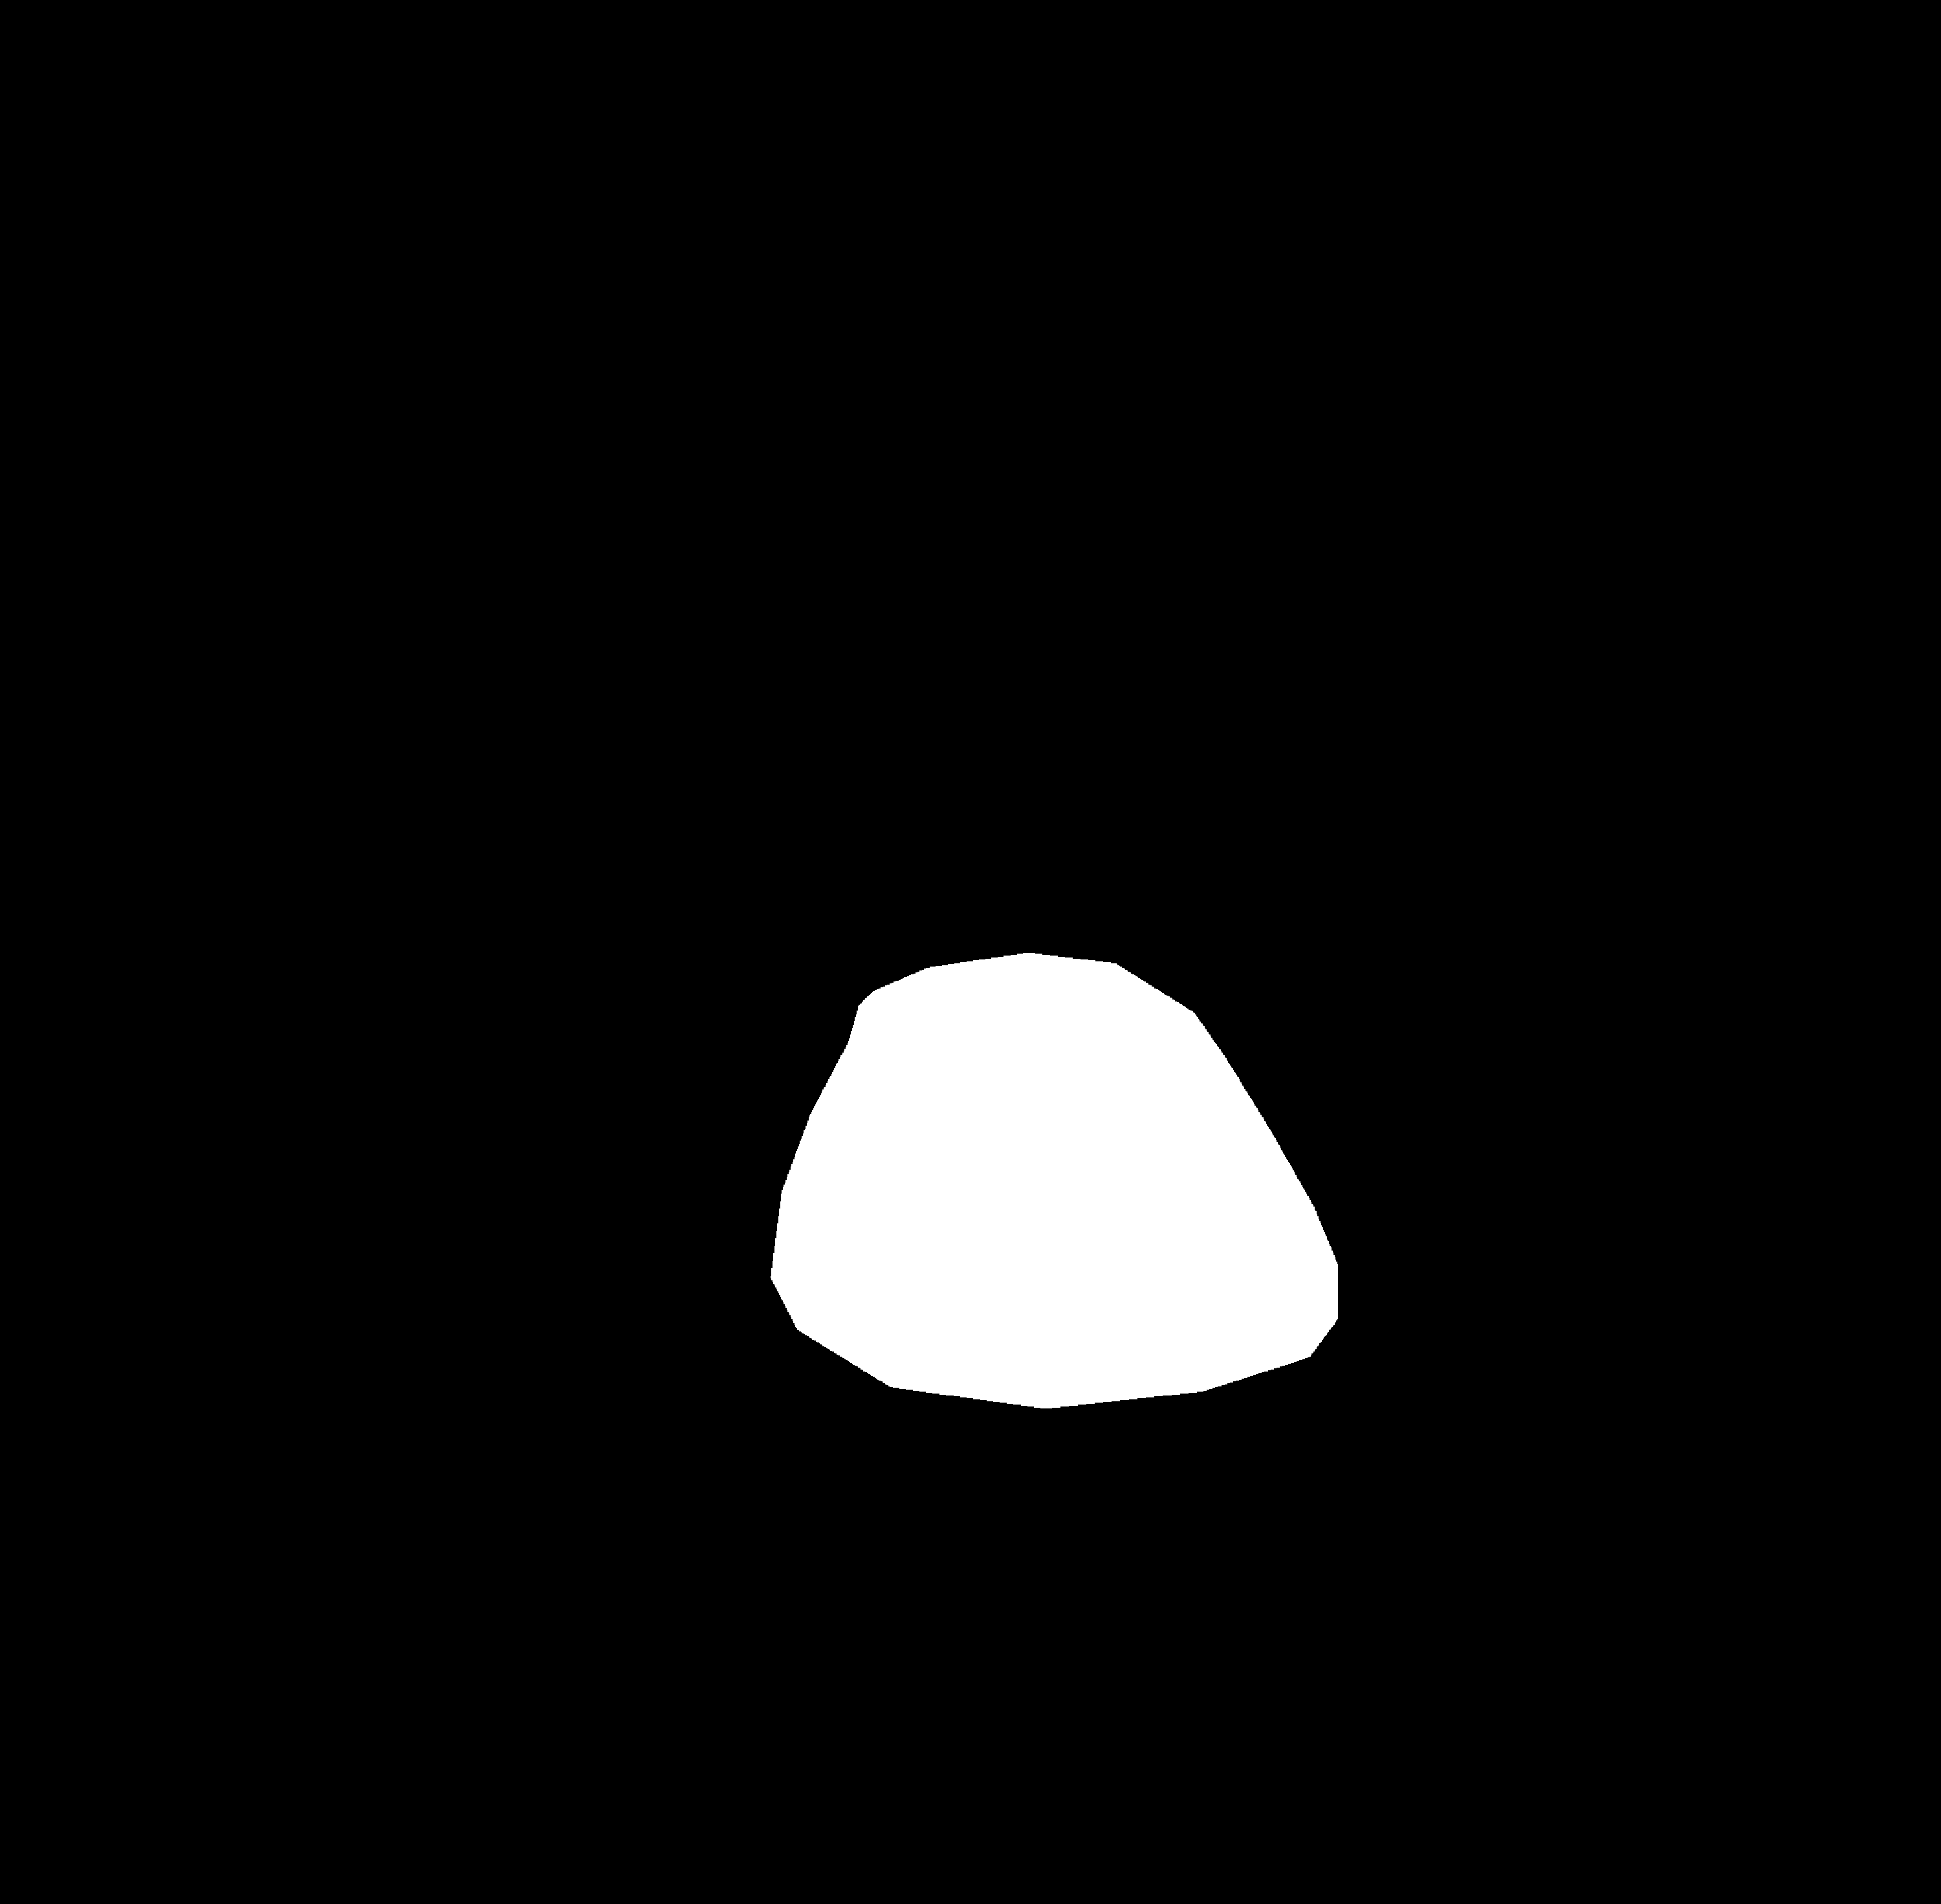heart: (767, 1055, 1341, 1480)
left_lung: (298, 375, 910, 1475)
right_lung: (1055, 364, 1645, 1435)
